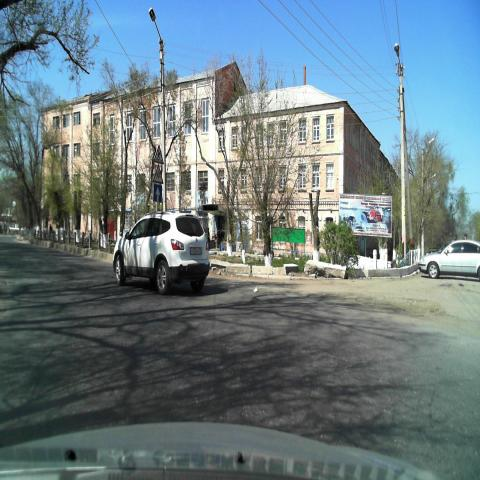1_23: (153, 166, 165, 186)
